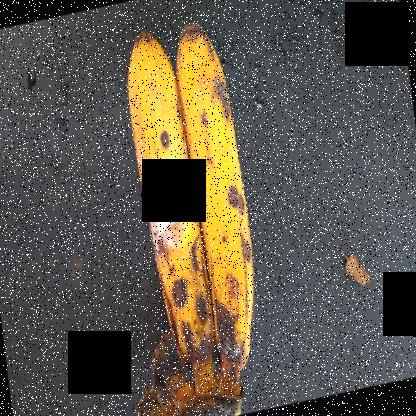overripe: (170, 5, 256, 387), (126, 27, 209, 368)
rotten: (100, 145, 198, 285)
